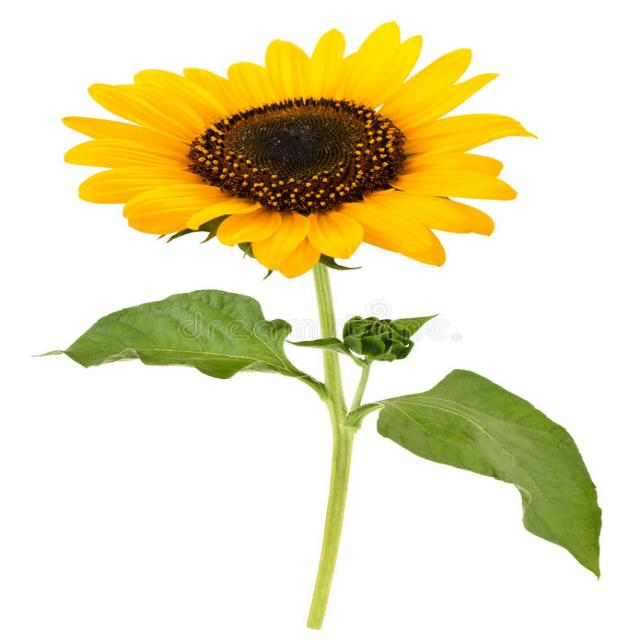sunflower: (47, 18, 538, 269)
